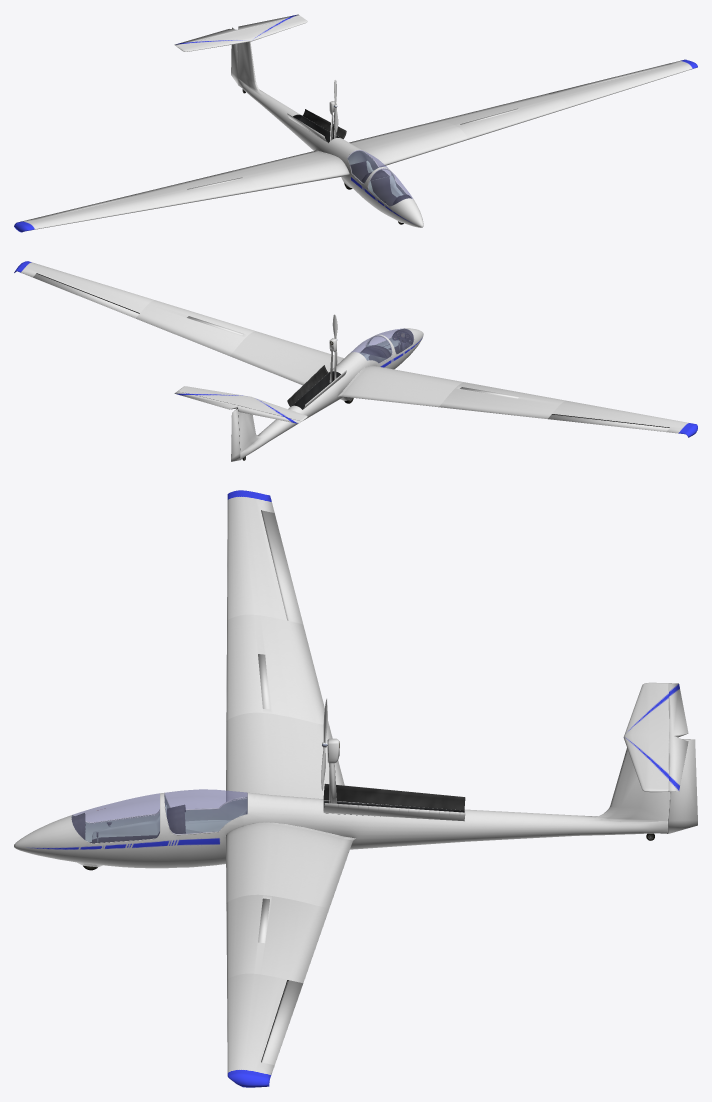
Rendered from glider.glb.
The picture shows the model from 3 angles, top to bottom: view 1: azimuth 30°, elevation 25°; view 2: azimuth 150°, elevation 25°; view 3: azimuth 270°, elevation 25°; orthographic projection. The views are drawn at different scales.
Bounding box in the file's own units: 17.01 × 2.37 × 8.34.
14 materials, 12 textured.
